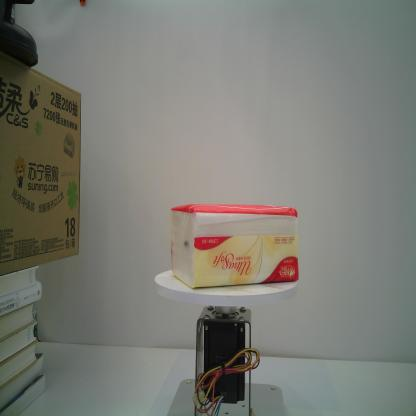Tissue: (168, 201, 302, 291)
